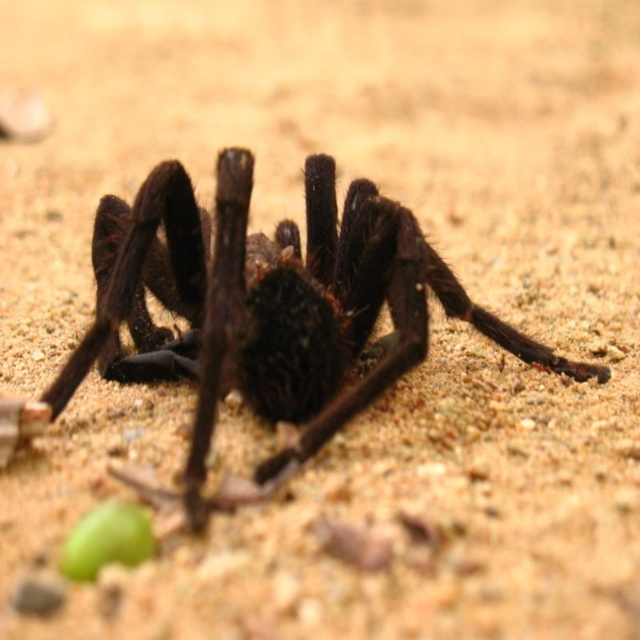Spider: (38, 146, 612, 532)
